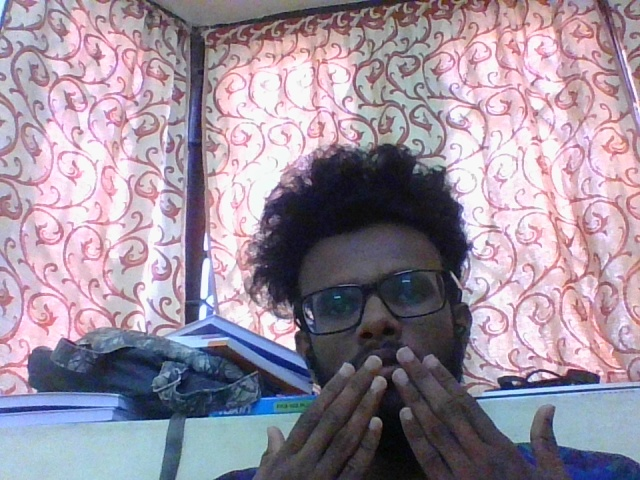thank: (241, 343, 577, 480)
